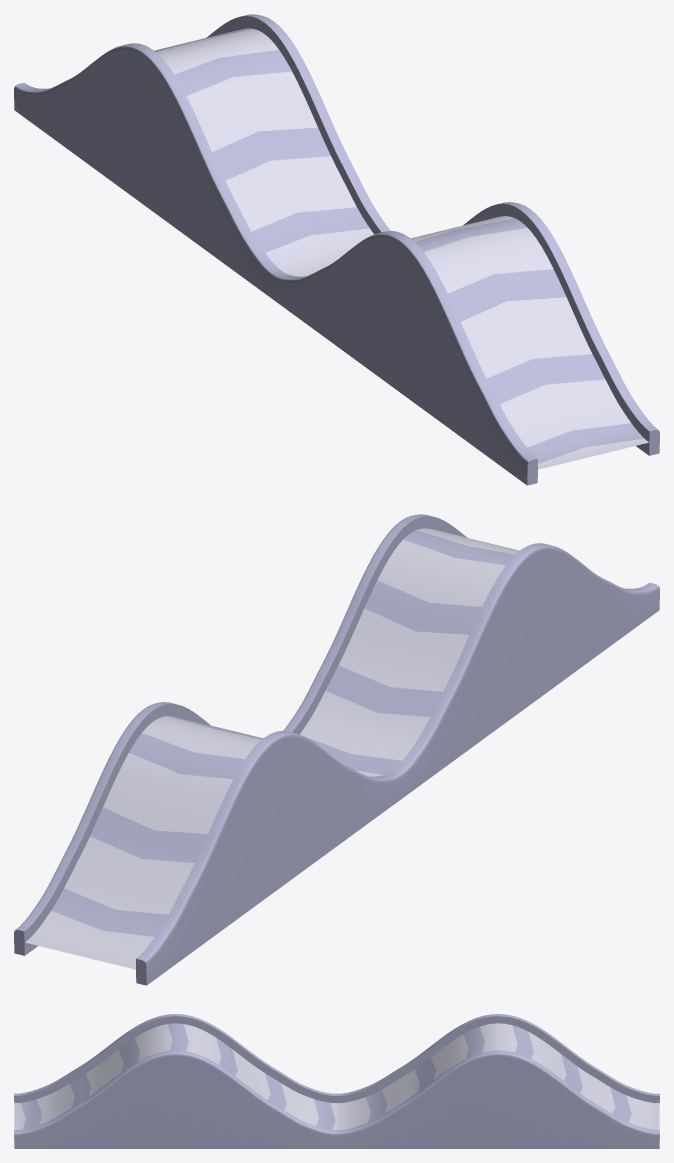
File: platform_soft.fbx
3 views of the same model, one above another, from view 1: azimuth 30°, elevation 25°; view 2: azimuth 150°, elevation 25°; view 3: azimuth 270°, elevation 25° (orthographic). The views are drawn at different scales.
Parts seen in each view (by area): view 1: platform_soft; view 2: platform_soft; view 3: platform_soft.
Boxes of the visible parts, bbox=[...] form: platform_soft: bbox=[14, 14, 659, 485]; platform_soft: bbox=[14, 514, 659, 985]; platform_soft: bbox=[14, 1014, 659, 1148].
Size of the model in its own units: 6872 by 7527 by 46199.
Materials: 1 (1 with a texture image).
